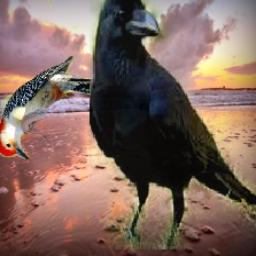Crow: (90, 0, 256, 249)
Woodpecker: (0, 56, 107, 160)
